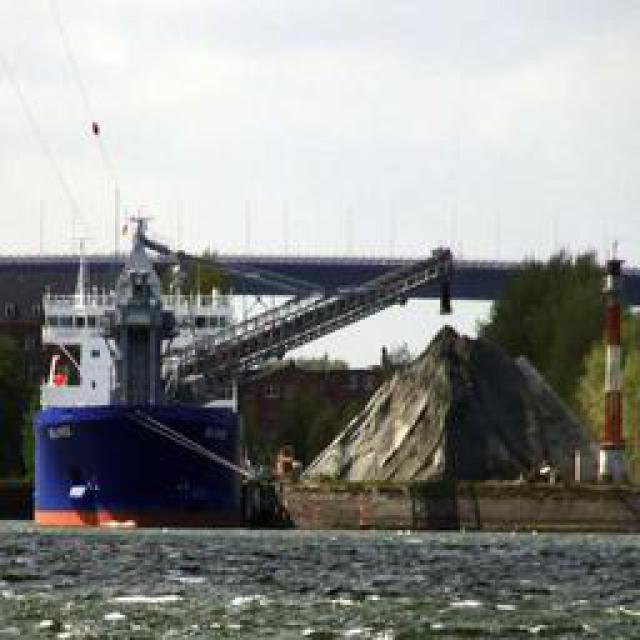Ship: (34, 137, 255, 539)
